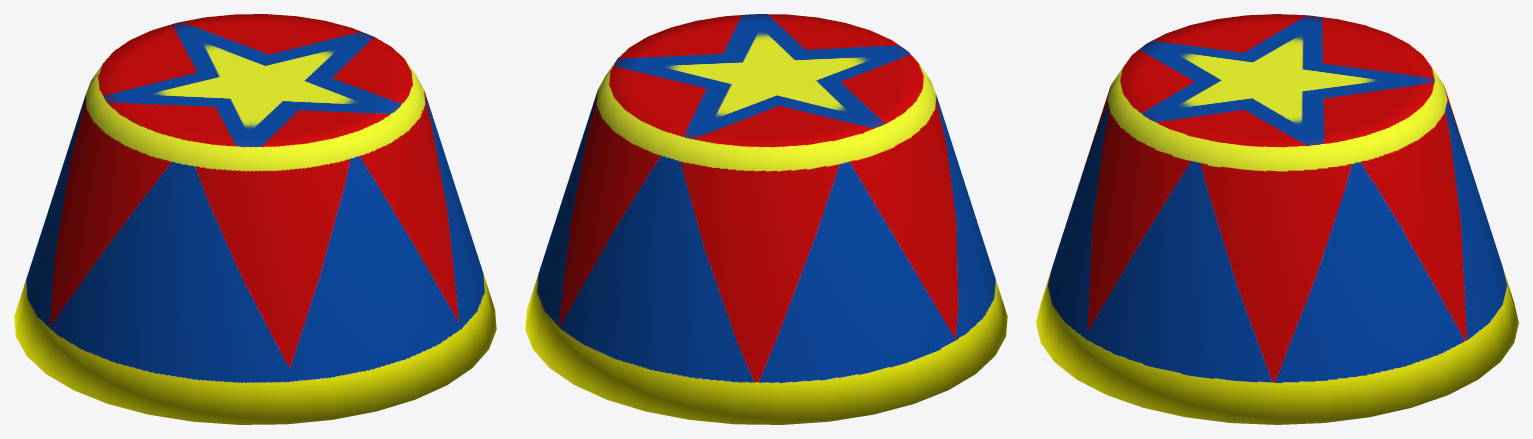
The model's file is Platform.glb.
The picture shows the model from 3 angles, left to right: view 1: azimuth 30°, elevation 25°; view 2: azimuth 150°, elevation 25°; view 3: azimuth 270°, elevation 25°; orthographic projection.
Visible parts, largest first — view 1: Cylinder; view 2: Cylinder; view 3: Cylinder.
Part boxes in pixels (x1=…): Cylinder: x1=14, y1=14, x2=496, y2=424; Cylinder: x1=525, y1=14, x2=1007, y2=424; Cylinder: x1=1036, y1=14, x2=1518, y2=424.
Bounding box in the file's own units: 3.57 × 1.97 × 3.57.
Materials: 1 (1 with a texture image).
